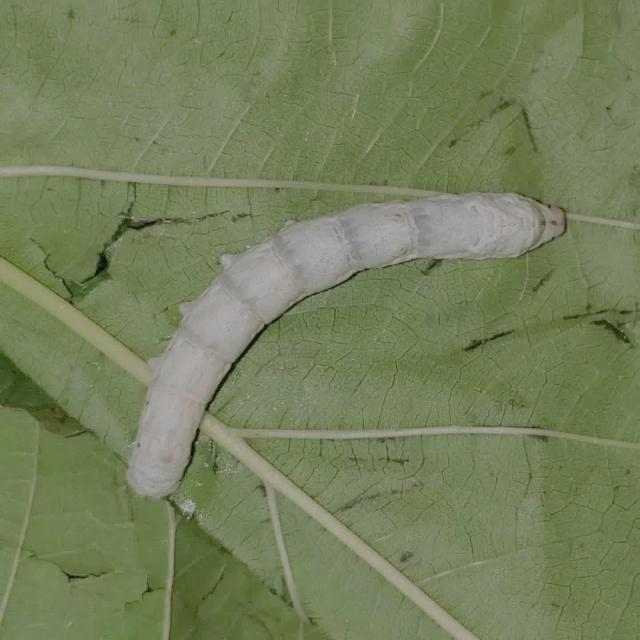Healthy: (119, 178, 573, 500)
